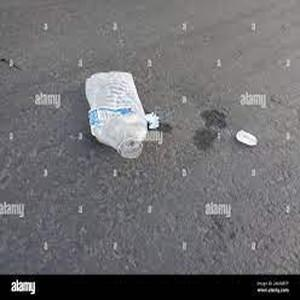Plastic: (83, 70, 149, 158)
